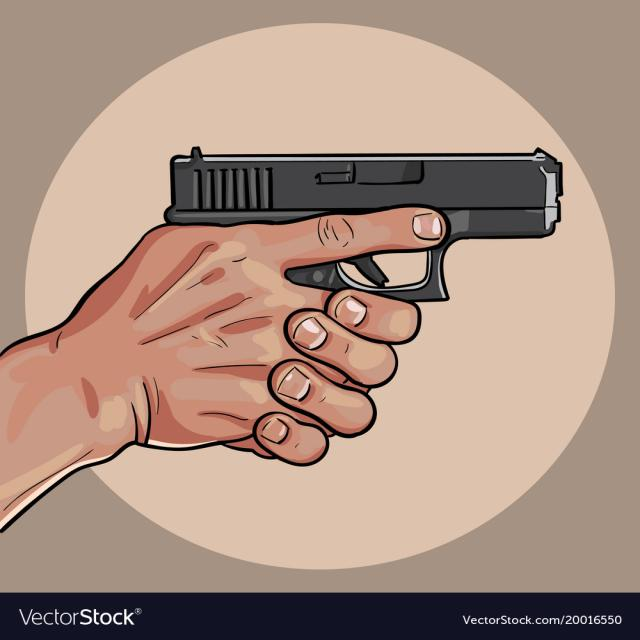HandGun: (162, 147, 563, 302)
